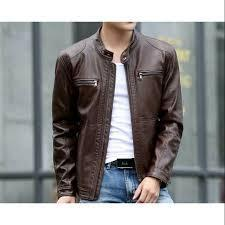jacket: (48, 30, 193, 195)
